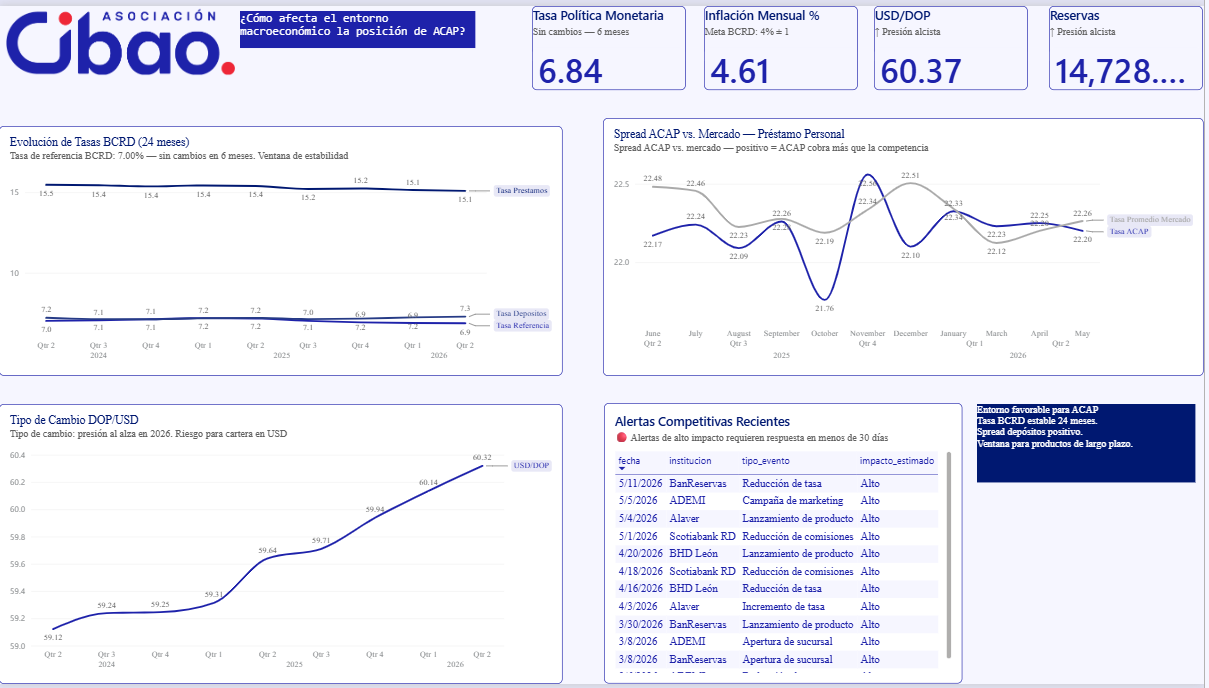

What the dashboard file says about the page in this screenshot:
{"tool":"powerbi","page":{"name":"Economic & Market Trends","canvas":[1920,1080],"ordinal":3},"visuals":[{"type":"lineChart","title":"Evolución de Tasas BCRD (24 meses)","fields":{"Category":["bcrd_indicators.fecha.Variation.Date Hierarchy.Year","bcrd_indicators.fecha.Variation.Date Hierarchy.Quarter","bcrd_indicators.fecha.Variation.Date Hierarchy.Month","bcrd_indicators.fecha.Variation.Date Hierarchy.Day"],"Y":["Avg(bcrd_indicators.tasa_referencia)","Avg(bcrd_indicators.tasa_prestamos)","Avg(bcrd_indicators.tasa_depositos)"]},"box":[0,191.4,897.7,397.8],"z":0},{"type":"lineChart","title":"Tipo de Cambio DOP/USD","fields":{"Category":["bcrd_indicators.fecha.Variation.Date Hierarchy.Year","bcrd_indicators.fecha.Variation.Date Hierarchy.Quarter","bcrd_indicators.fecha.Variation.Date Hierarchy.Month","bcrd_indicators.fecha.Variation.Date Hierarchy.Day"],"Y":["Avg(bcrd_indicators.tipo_cambio_venta)"]},"box":[0,633.8,897.7,446.1],"z":1000},{"type":"cardVisual","title":"Tasa Política Monetaria","fields":{"Data":["bcrd_indicators.Valor Última Fecha"]},"box":[869.9,0,245.3,133.8],"z":2000},{"type":"cardVisual","title":"Inflación Mensual %","fields":{"Data":["bcrd_indicators.Valor Última Fecha inflacion"]},"box":[1144.9,1.9,245.3,132],"z":3000},{"type":"cardVisual","title":"USD/DOP","fields":{"Data":["bcrd_indicators.Valor Última Fecha tipo_cambio_venta"]},"box":[1412.6,0,243.5,133.8],"z":4000},{"type":"cardVisual","title":"Reservas","fields":{"Data":["bcrd_indicators.Valor Última Fecha reservas_internac"]},"box":[1682.1,0,237.9,133.8],"z":5000},{"type":"tableEx","title":"Alertas Competitivas Recientes","fields":{"Values":["competitive_events.fecha Hierarchy.fecha","competitive_events.institucion","competitive_events.tipo_evento","competitive_events.impacto_estimado"]},"box":[963.2,633.1,570.9,446.5],"z":6000},{"type":"lineChart","title":"Spread ACAP vs. Mercado — Préstamo Personal","fields":{"Category":["analysis_rate_trend.fecha.Variation.Date Hierarchy.Year","analysis_rate_trend.fecha.Variation.Date Hierarchy.Quarter","analysis_rate_trend.fecha.Variation.Date Hierarchy.Month","analysis_rate_trend.fecha.Variation.Date Hierarchy.Day"],"Y":["Avg(analysis_rate_trend.acap_tasa)","Avg(analysis_rate_trend.mercado_promedio)"]},"box":[962.8,178.4,957.2,410.8],"z":7000},{"type":"image","box":[0,0,383.6,113.1],"z":8000},{"type":"textbox","box":[384.3,8,374.8,59],"z":9000},{"type":"textbox","box":[1559,633.6,347.5,124.8],"z":10000}]}

Visuals, with their boxes in screenshot pixels (x1, y1, x2, y2), scaled from the page's 1920x1080 canvas onto the 1209x688 screenshot:
"Evolución de Tasas BCRD (24 meses)" lineChart: l=0, t=122, r=565, b=375
"Tipo de Cambio DOP/USD" lineChart: l=0, t=404, r=565, b=687
"Tasa Política Monetaria" cardVisual: l=548, t=0, r=702, b=85
"Inflación Mensual %" cardVisual: l=721, t=1, r=875, b=85
"USD/DOP" cardVisual: l=889, t=0, r=1043, b=85
"Reservas" cardVisual: l=1059, t=0, r=1208, b=85
"Alertas Competitivas Recientes" tableEx: l=607, t=403, r=966, b=687
"Spread ACAP vs. Mercado — Préstamo Personal" lineChart: l=606, t=114, r=1208, b=375
image: l=0, t=0, r=242, b=72
textbox: l=242, t=5, r=478, b=43
textbox: l=982, t=404, r=1200, b=483
